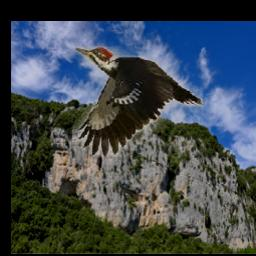Woodpecker: (72, 47, 203, 158)
